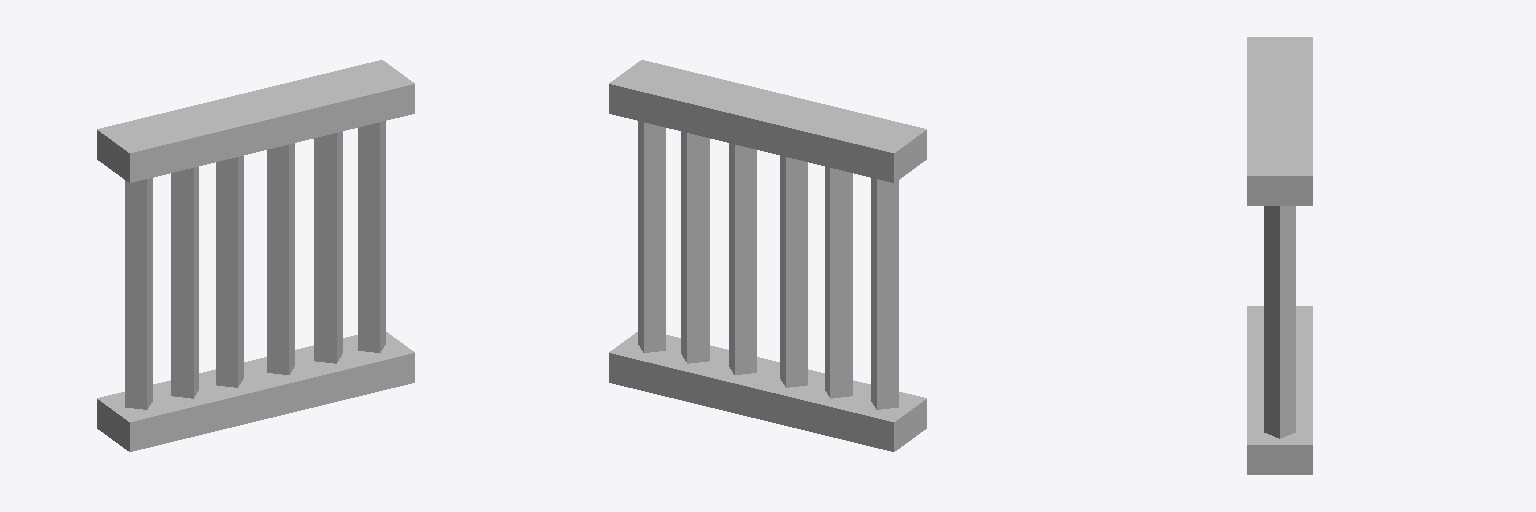
The model's file is bars.obj.
The picture shows the model from 3 angles: view 1: azimuth 30°, elevation 25°; view 2: azimuth 150°, elevation 25°; view 3: azimuth 270°, elevation 25°; orthographic projection.
Parts seen in each view (by area): view 1: bars; view 2: bars; view 3: bars.
Part boxes in pixels (x1,y1,x2,y2): bars: (97,60,414,451); bars: (609,60,926,451); bars: (1247,37,1312,474).
Size of the model in its own units: 2 by 2 by 0.4.